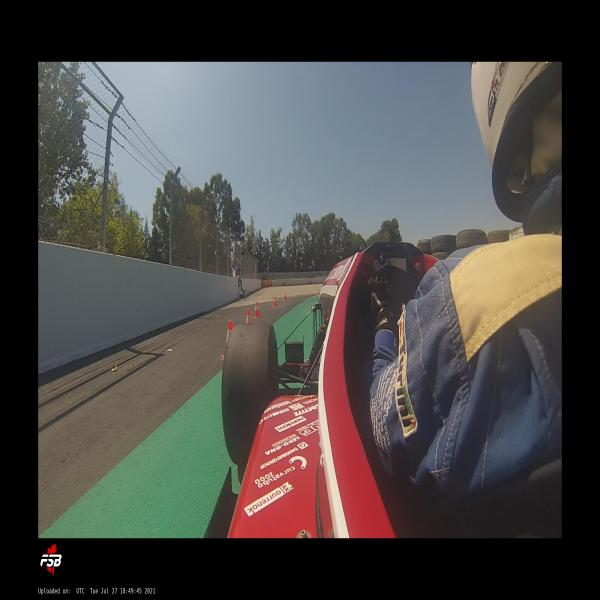orange_cone: (221, 321, 233, 357), (254, 301, 262, 318), (246, 309, 253, 326), (273, 295, 278, 307), (284, 292, 287, 301), (318, 288, 320, 294)
